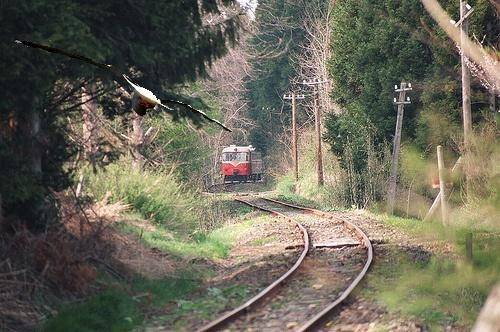tampered: (15, 40, 232, 132)
